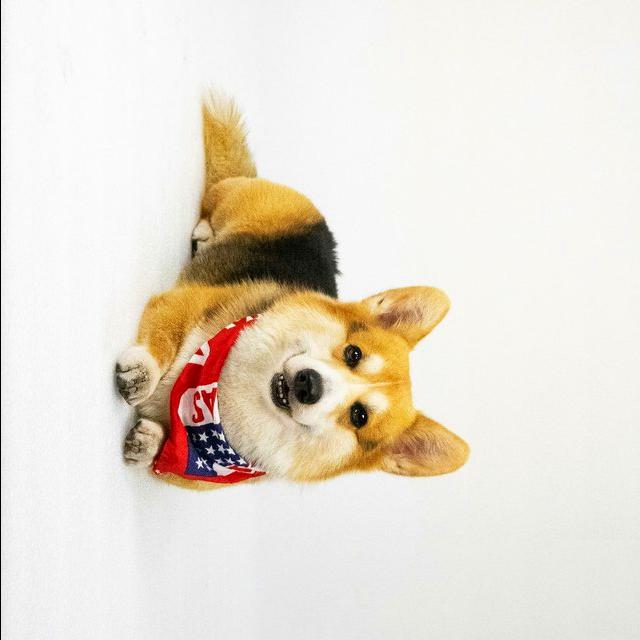corgi: (114, 90, 471, 492)
